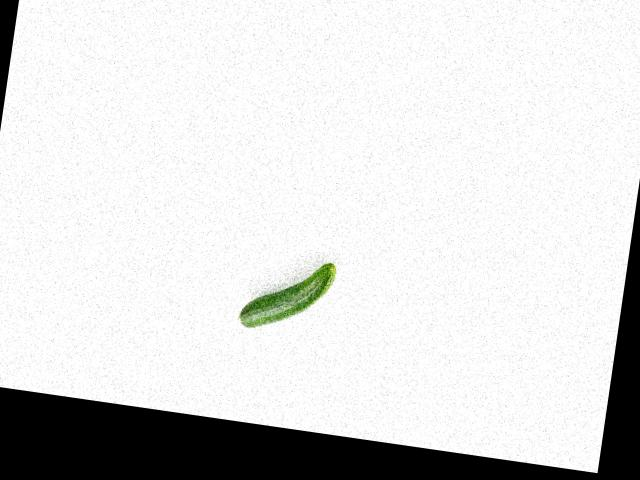cucumber: (237, 250, 336, 338)
